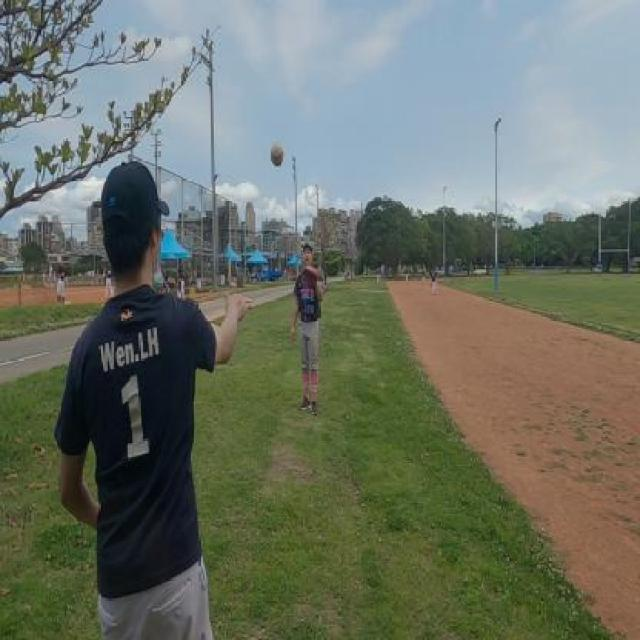baseball: (270, 142, 284, 168)
